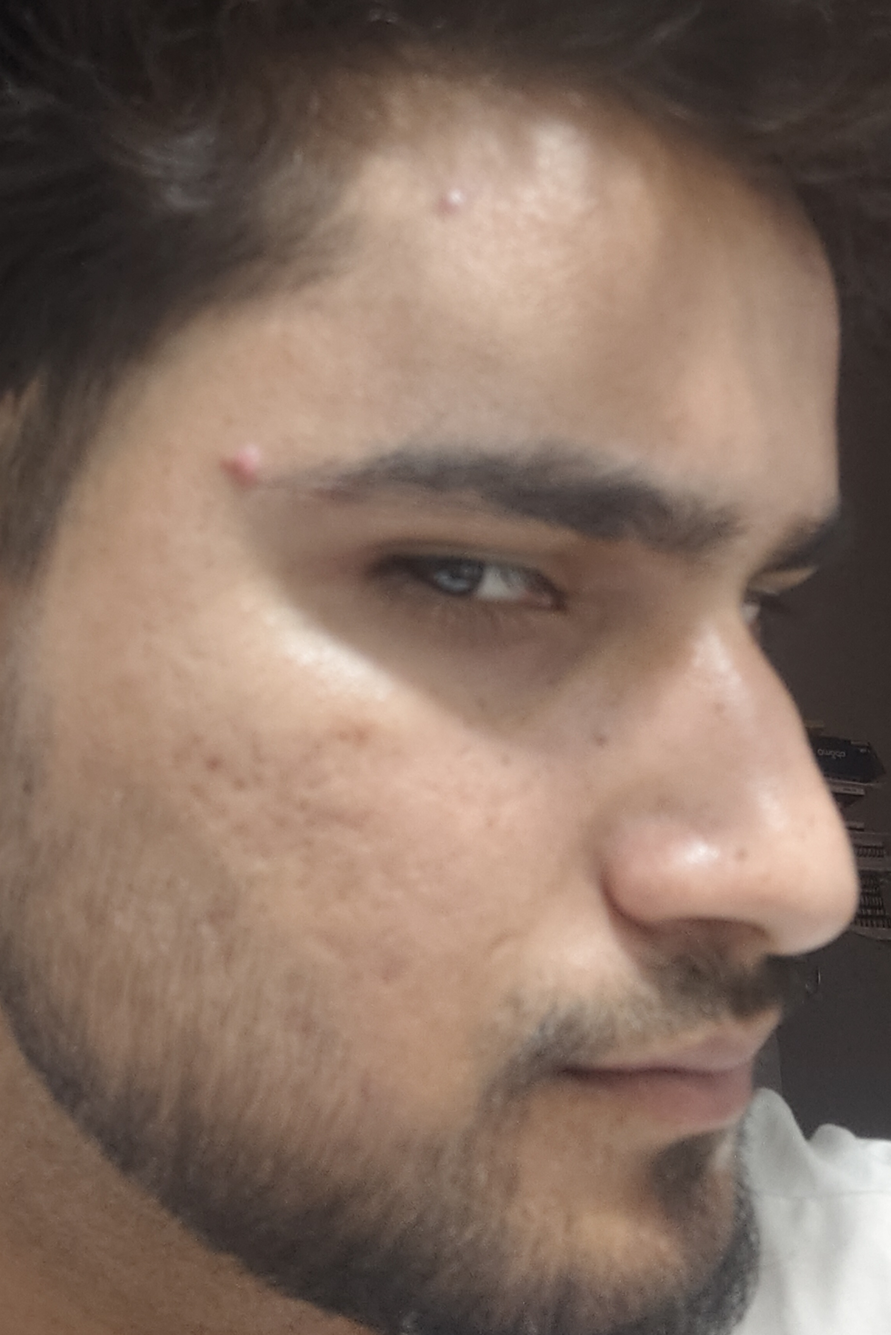papule: (203, 416, 263, 500), (428, 167, 483, 249), (327, 698, 377, 760)
